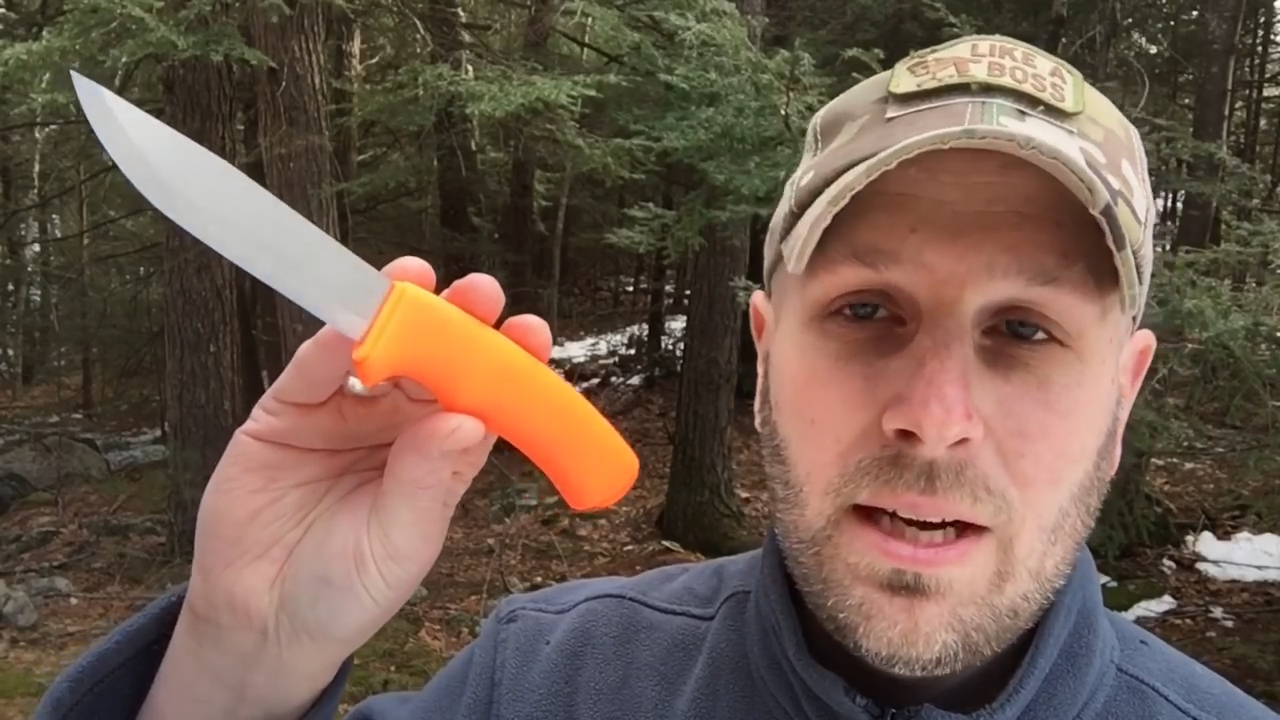knife: (55, 55, 443, 415)
